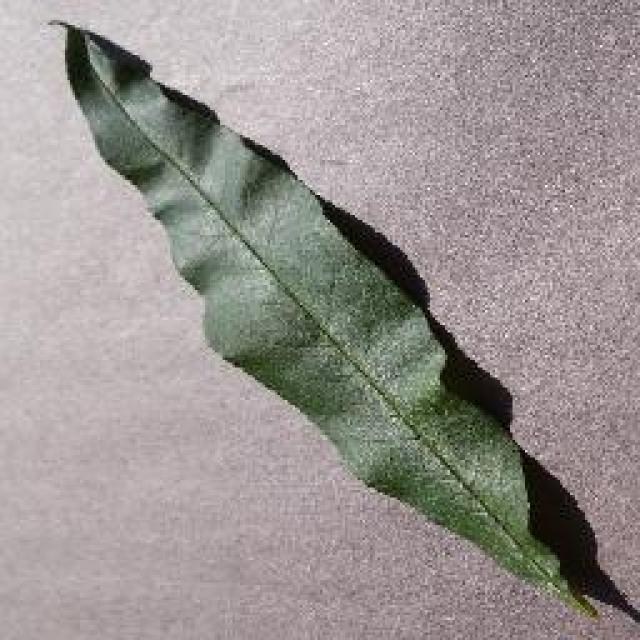Pea_healthy: (95, 76, 510, 529)
